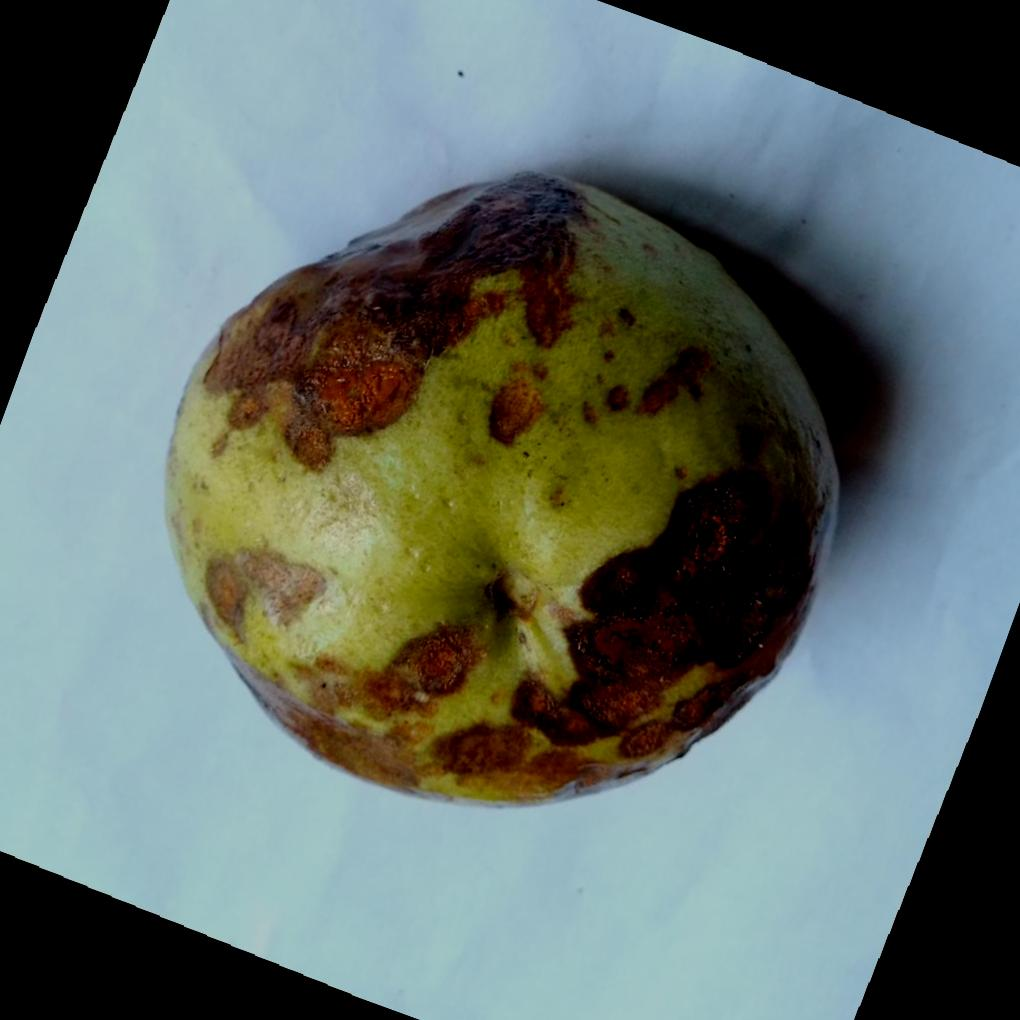FreshOrange: (164, 168, 844, 806)
